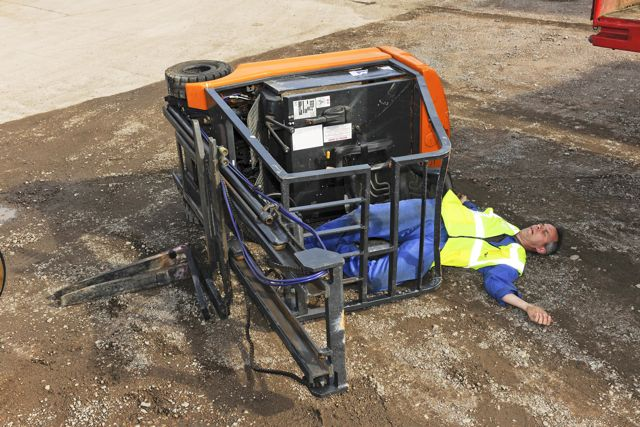fall: (262, 158, 591, 352)
